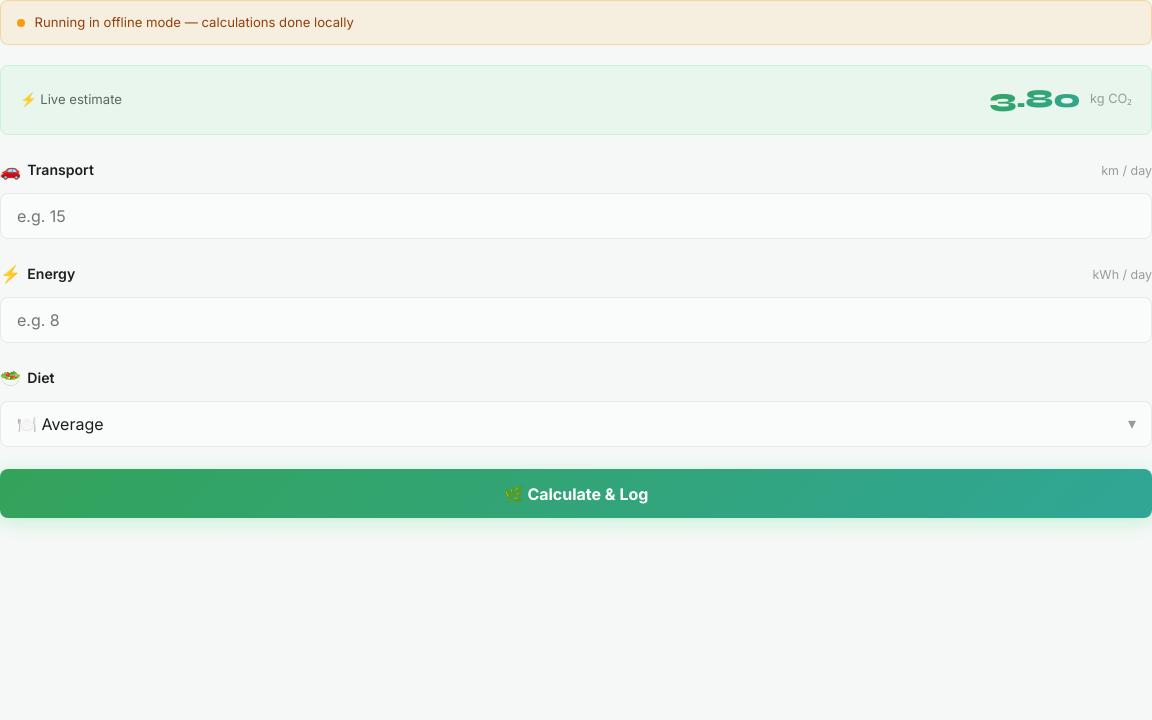
FootprintForm › shows grade A for emissions <= 50% of global average in offline mode
Type "1000" into the number field labelled "🚗 Transport km / day" at (576, 216), box [0,193,1151,239]
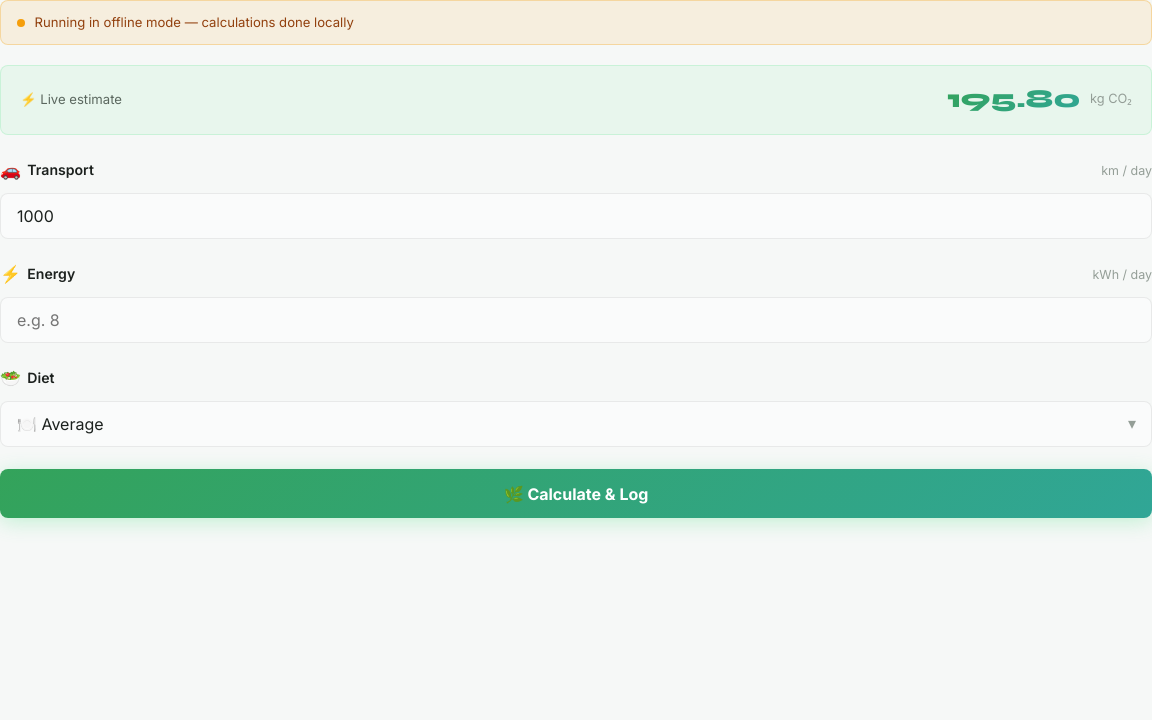
Type "0" into the number field labelled "⚡ Energy kWh / day" at (576, 320), box [0,297,1151,343]
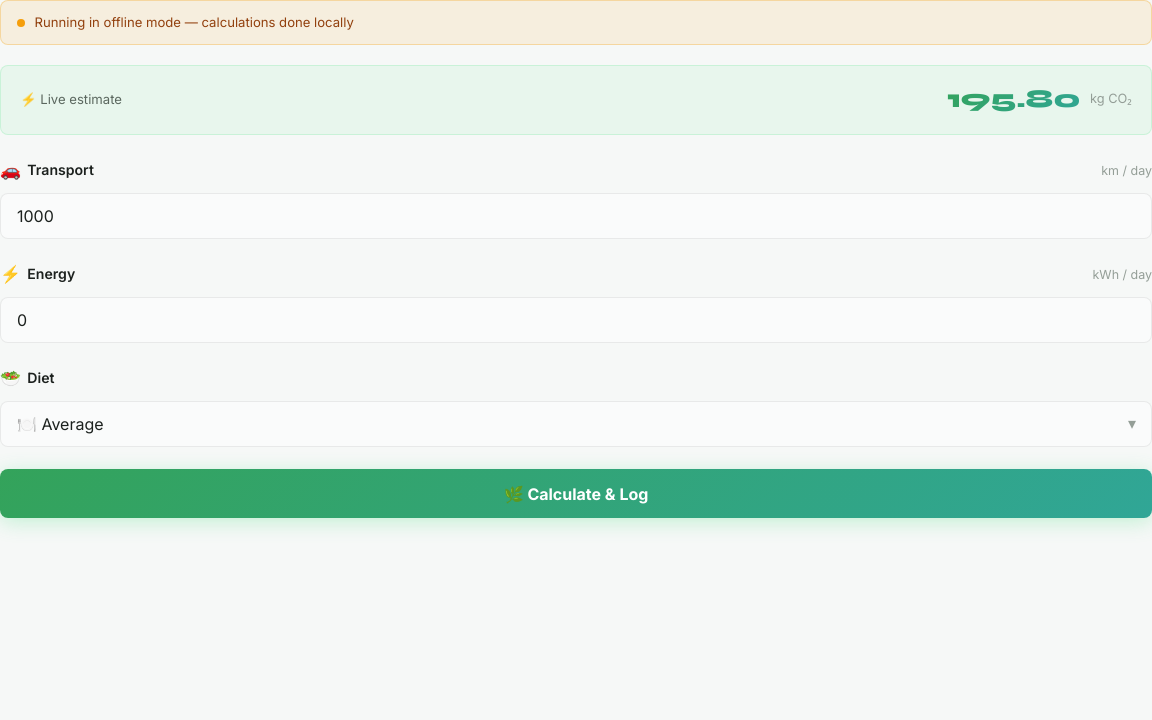
Select "🥩 Meat-heavy" in the dropdown labelled "🥗 Diet" at (576, 424), box [0,401,1151,447]
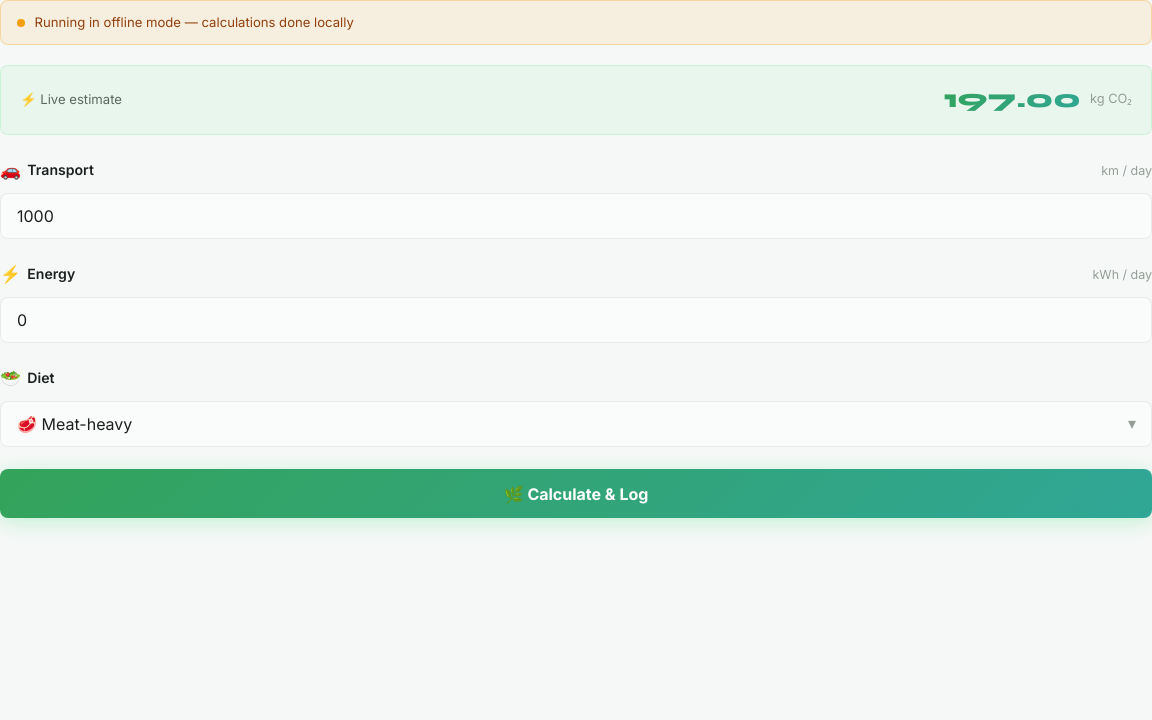
Click the button "🌿 Calculate & Log" at (576, 494), box [0,469,1151,518]
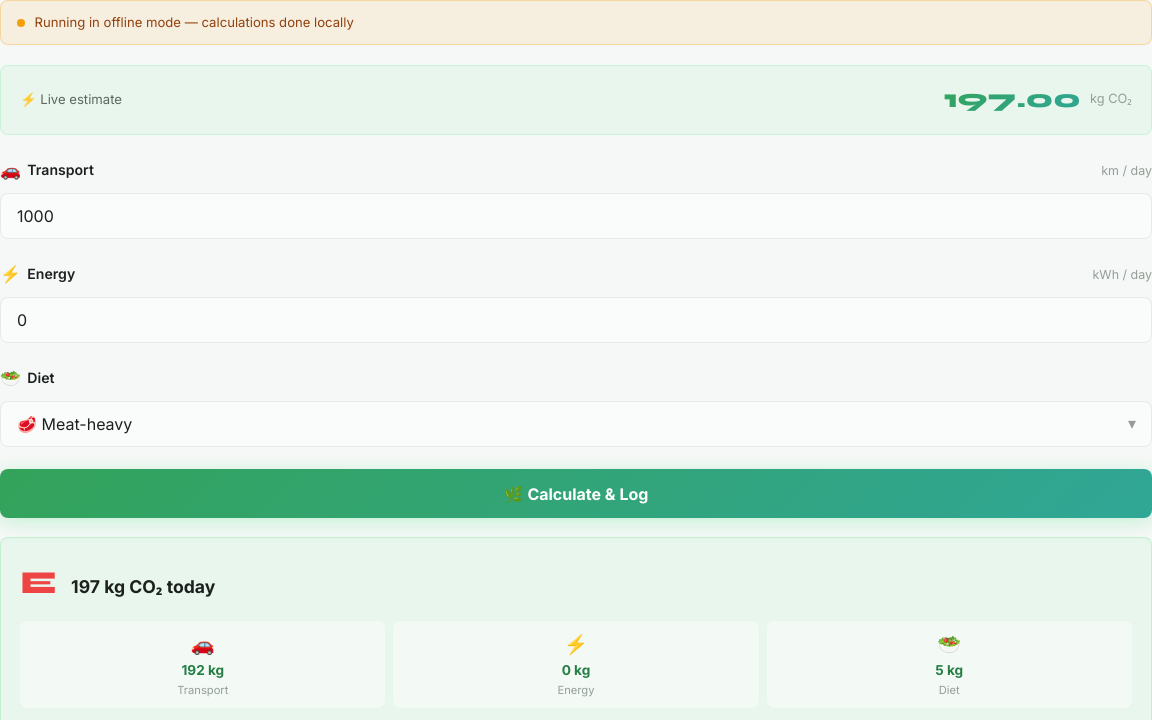
Expected: the text "E" is shown, [20,557,57,609]
